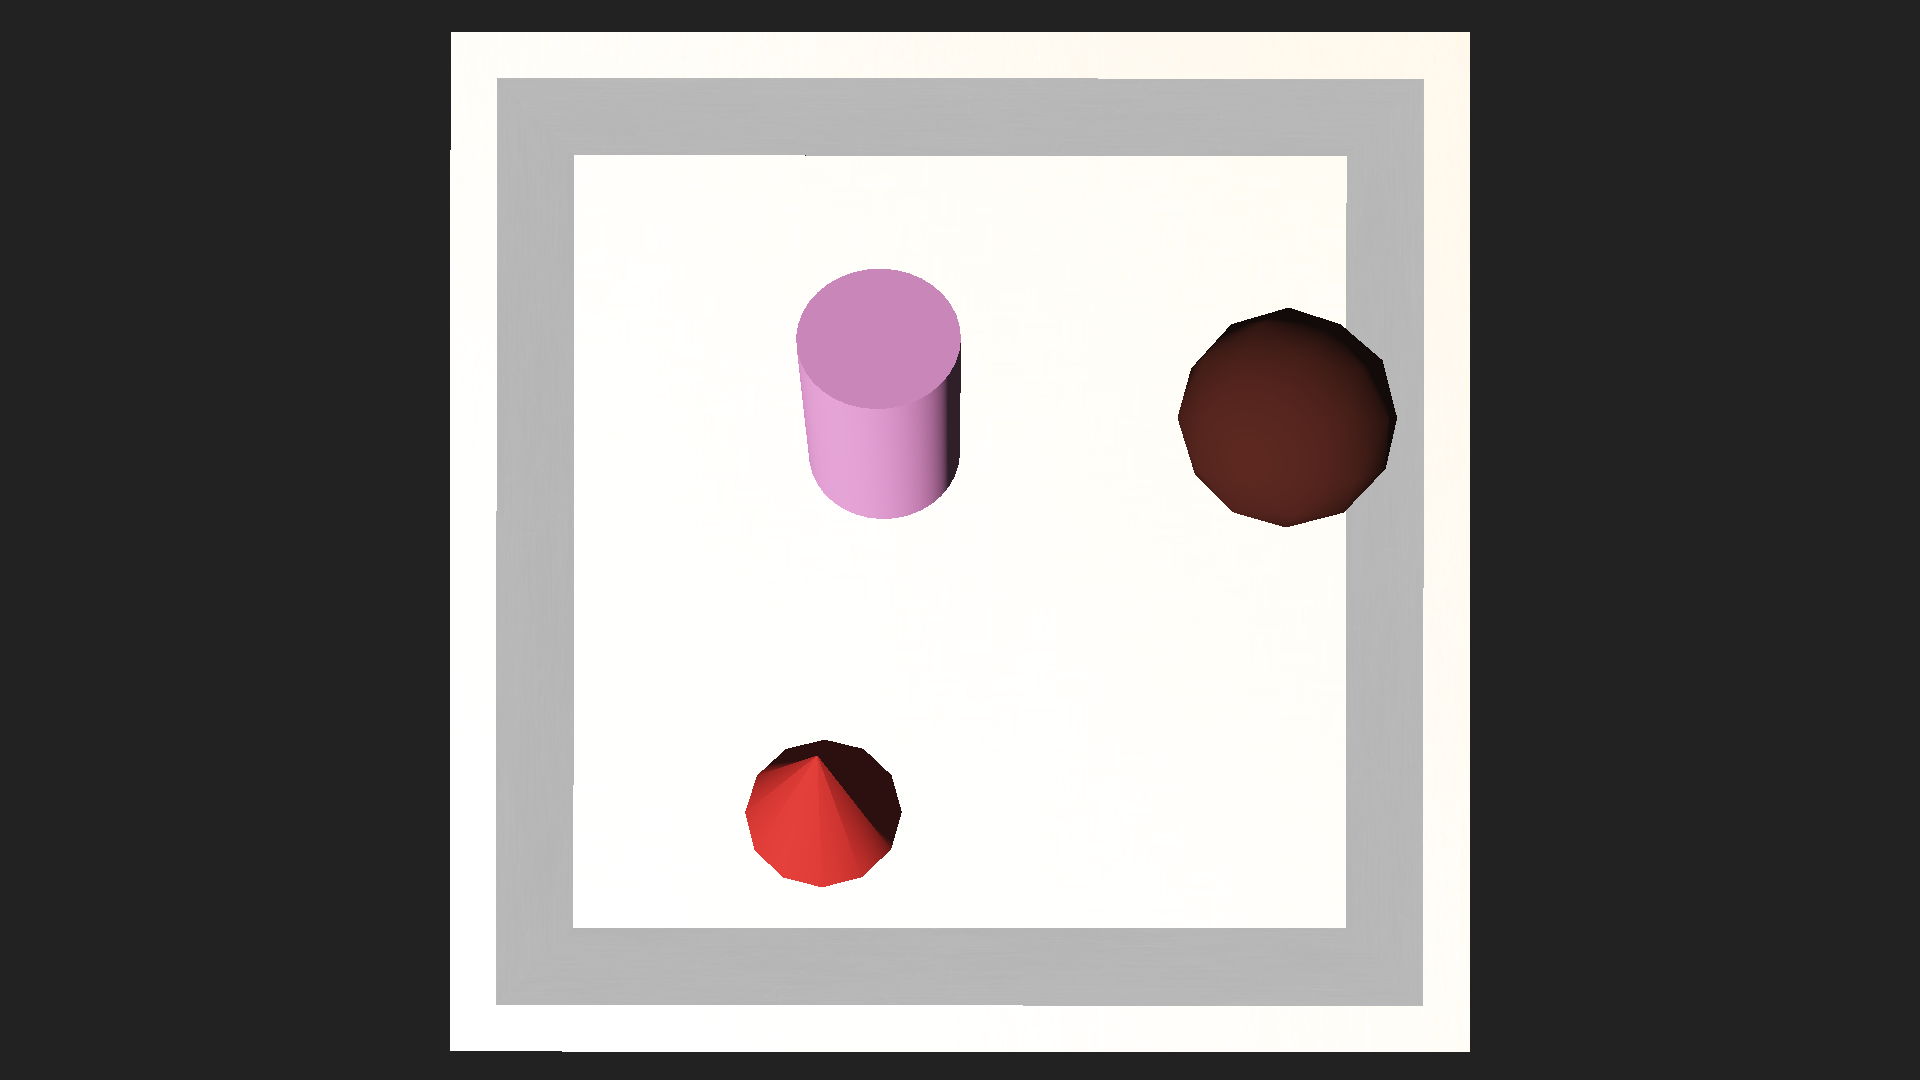cone: (793, 258, 960, 520)
cylinder: (735, 676, 897, 902)
sphere: (1176, 307, 1396, 527)
